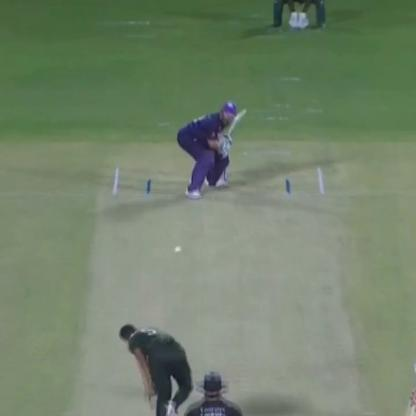ball: (172, 240, 183, 254)
bat: (222, 102, 248, 137)
pitch: (75, 162, 346, 416)
